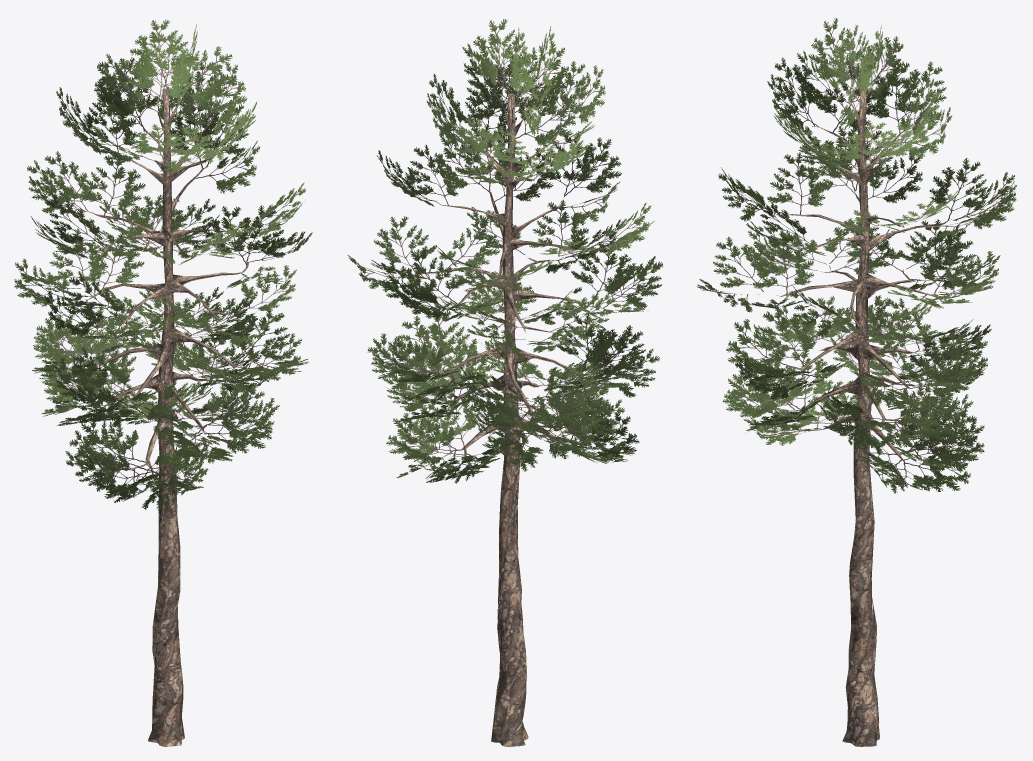
Rendered from tree-2.glb.
The picture shows the model from 3 angles, left to right: view 1: azimuth 30°, elevation 25°; view 2: azimuth 150°, elevation 25°; view 3: azimuth 270°, elevation 25°; orthographic projection.
Parts seen in each view (by area): view 1: Tree_1_Tree_1Mat_0, Tree_0_Tree_0Mat_0; view 2: Tree_1_Tree_1Mat_0, Tree_0_Tree_0Mat_0; view 3: Tree_1_Tree_1Mat_0, Tree_0_Tree_0Mat_0.
Boxes of the visible parts, x1,y1,x2,y2 form: Tree_1_Tree_1Mat_0: (14,19,312,510); Tree_0_Tree_0Mat_0: (83,88,252,746); Tree_1_Tree_1Mat_0: (347,19,662,483); Tree_0_Tree_0Mat_0: (413,90,595,746); Tree_1_Tree_1Mat_0: (697,18,1016,493); Tree_0_Tree_0Mat_0: (776,90,956,746).
Size of the model in its own units: 2.18 by 5.32 by 2.17.
Materials: 2 (2 with a texture image).
